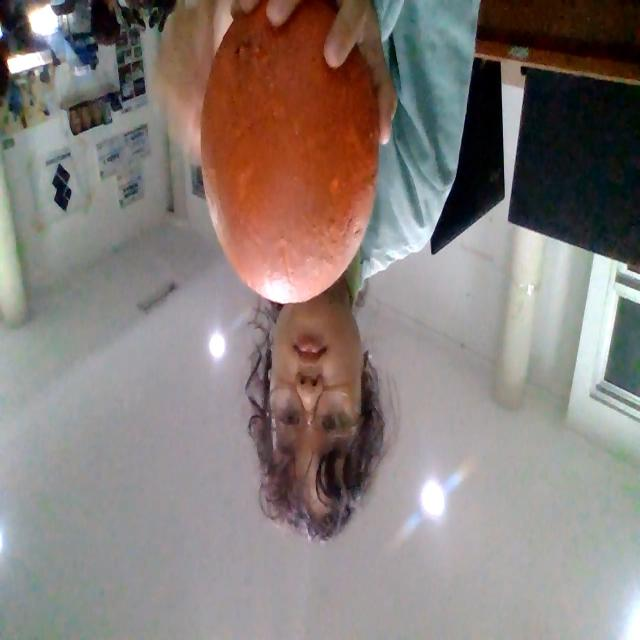ball: (200, 2, 381, 306)
